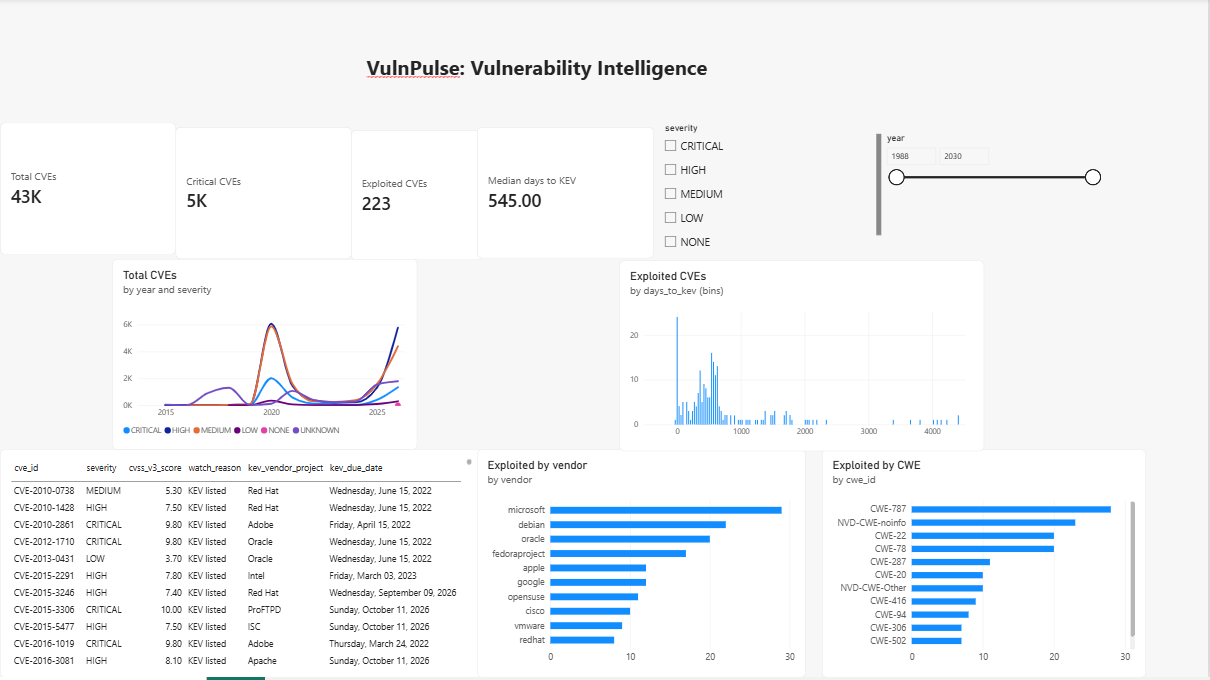

What the dashboard file says about the page in this screenshot:
{"tool":"powerbi","page":{"name":"Vulnerability Intelligence","canvas":[1920,1080],"ordinal":0},"visuals":[{"type":"tableEx","fields":{"Values":["gold_watchlist_v.cve_id","gold_watchlist_v.severity","gold_watchlist_v.cvss_v3_score","gold_watchlist_v.watch_reason","gold_watchlist_v.kev_vendor_project","gold_watchlist_v.kev_due_date"]},"box":[0,718.2,768.3,362.7],"z":8},{"type":"cardVisual","fields":{"Data":["fact_cve.Total CVEs"]},"box":[0,198,280,210],"z":10},{"type":"cardVisual","fields":{"Data":["fact_cve.Critical CVEs"]},"box":[279.2,205.2,280,210],"z":11},{"type":"cardVisual","fields":{"Data":["fact_cve.Exploited CVEs"]},"box":[558.3,210,210,207.6],"z":12},{"type":"cardVisual","fields":{"Data":["fact_cve.Median days to KEV"]},"box":[758.7,205.2,281.5,210],"z":13},{"type":"lineChart","fields":{"Category":["dim_date.year"],"Series":["dim_severity.severity"],"Y":["fact_cve.Total CVEs"]},"box":[178.9,415.1,484.3,303],"z":14},{"type":"clusteredBarChart","fields":{"Category":["dim_vendor_product.vendor"],"Y":["fact_cve.Exploited by vendor"]},"box":[758.7,718.2,522.5,362.7],"z":15},{"type":"clusteredBarChart","fields":{"Category":["dim_cwe.cwe_id"],"Y":["fact_cve.Exploited by CWE"]},"box":[1307.5,718.2,515.4,362.7],"z":16},{"type":"clusteredColumnChart","fields":{"Category":["fact_cve.days_to_kev (bins)"],"Y":["fact_cve.Exploited CVEs"]},"box":[985.4,417.5,579.8,303],"z":17},{"type":"slicer","fields":{"Values":["dim_date.year"]},"box":[1402.9,214.7,352,188],"z":18},{"type":"slicer","fields":{"Values":["dim_severity.severity"]},"box":[1049.8,198,352,210],"z":19},{"type":"textbox","box":[0,88.3,1708.3,121.7],"z":20}]}

Visuals, with their boxes in screenshot pixels (x1, y1, x2, y2), scaled from the page's 1920x1080 canvas onto the 1210x680 screenshot:
tableEx - gold_watchlist_v.cve_id x gold_watchlist_v.severity: bbox=(0, 452, 484, 679)
cardVisual - fact_cve.Total CVEs: bbox=(0, 125, 176, 257)
cardVisual - fact_cve.Critical CVEs: bbox=(176, 129, 352, 261)
cardVisual - fact_cve.Exploited CVEs: bbox=(352, 132, 484, 263)
cardVisual - fact_cve.Median days to KEV: bbox=(478, 129, 656, 261)
lineChart - dim_date.year x dim_severity.severity: bbox=(113, 261, 418, 452)
clusteredBarChart - dim_vendor_product.vendor x fact_cve.Exploited by vendor: bbox=(478, 452, 807, 679)
clusteredBarChart - dim_cwe.cwe_id x fact_cve.Exploited by CWE: bbox=(824, 452, 1149, 679)
clusteredColumnChart - fact_cve.days_to_kev (bins) x fact_cve.Exploited CVEs: bbox=(621, 263, 986, 454)
slicer - dim_date.year: bbox=(884, 135, 1106, 254)
slicer - dim_severity.severity: bbox=(662, 125, 883, 257)
textbox: bbox=(0, 56, 1077, 132)
